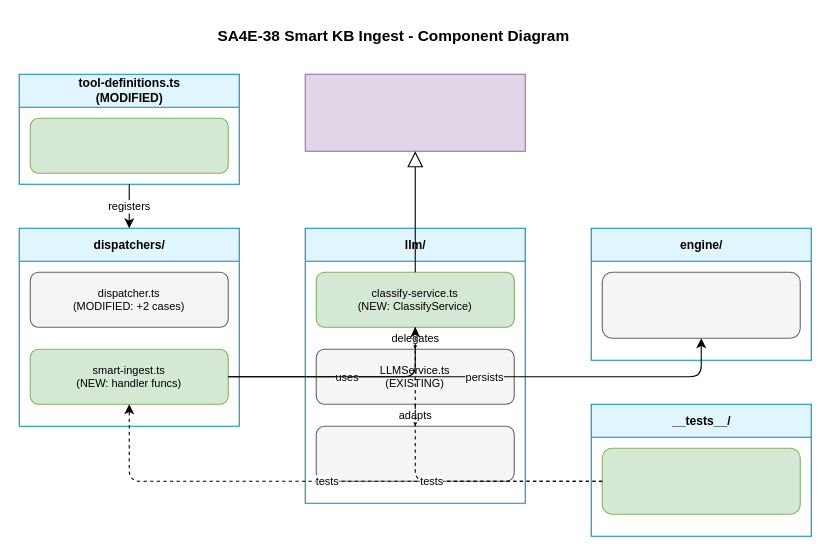
This 831x556 diagram has some shape labels left out. Here are the shapes that lost their labels. From the top down, the centre of each, then its label:
pixel 414 112: interface ClassifyStrategy + classify(msg): Promise + isAvailable(): Promise
pixel 128 145: mem_smart_ingest schema mem_smart_ingest_cleanup schema
pixel 700 304: core.ts - MemoryEngine (EXISTING: insert, find, update, delete)
pixel 414 453: ollama-adapter.ts (EXISTING)
pixel 700 480: SmartIngest.test.ts (NEW) ClassifyService.test.ts (NEW)
